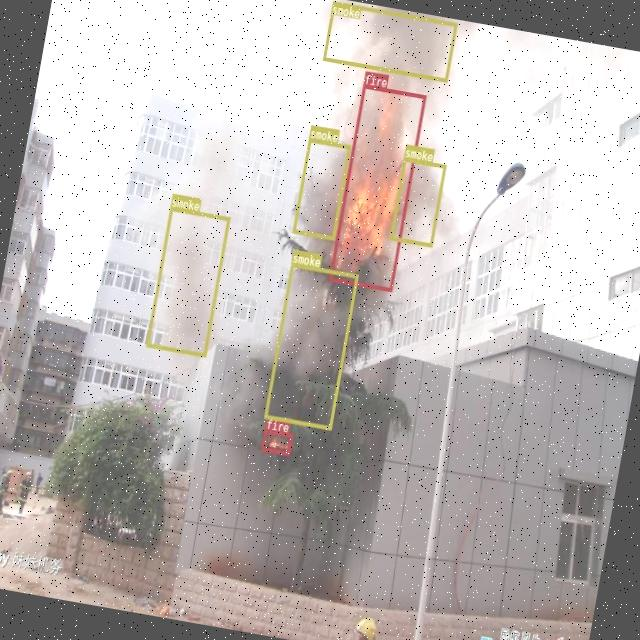fire: (328, 83, 426, 291), (261, 428, 292, 455)
smoke: (263, 262, 357, 428), (145, 206, 230, 356), (322, 0, 456, 81), (292, 137, 351, 239), (388, 156, 446, 246)
